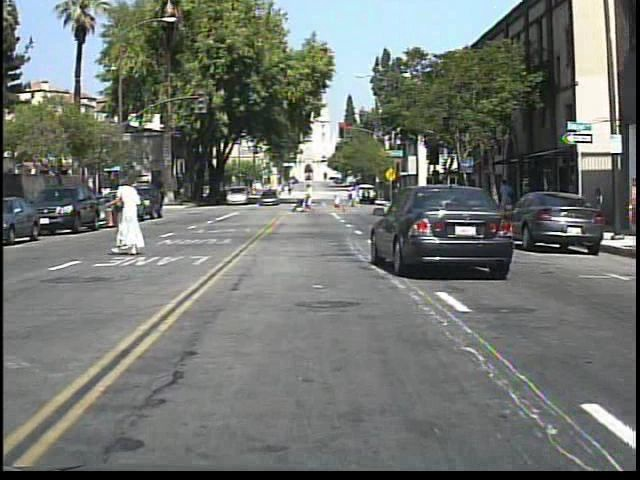person: (109, 172, 153, 265), (497, 172, 519, 223), (303, 182, 317, 213)
